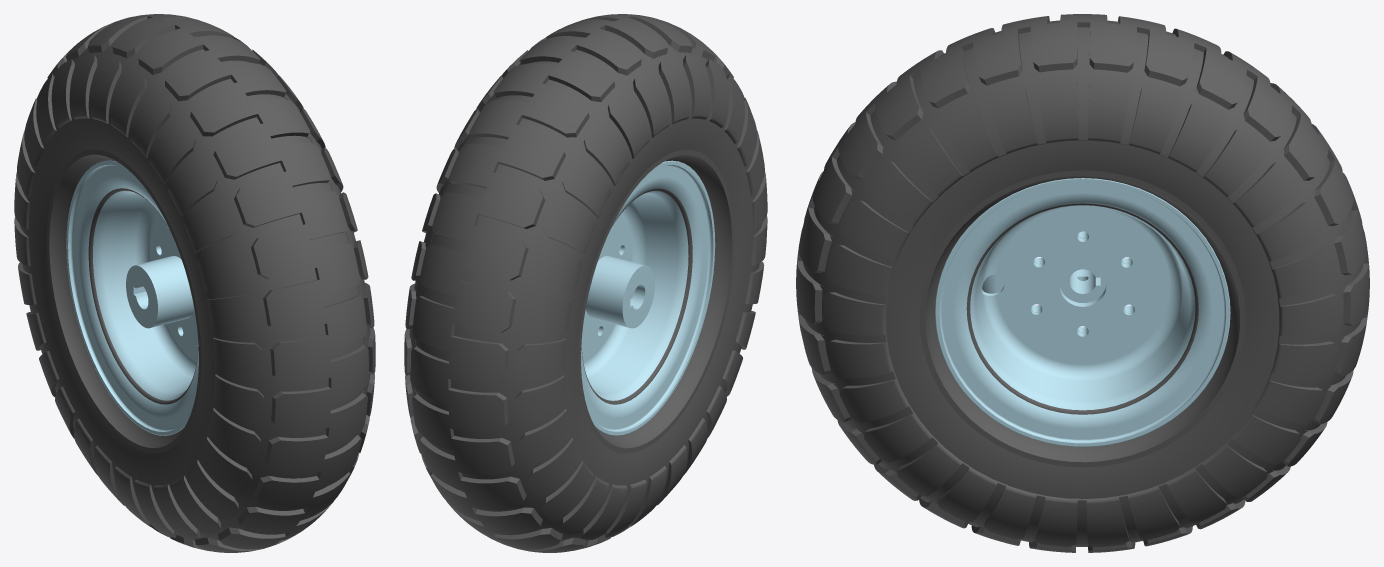
File: ackermann_front_left_wheel.glb
3 renders of one model, left to right at view 1: azimuth 30°, elevation 25°; view 2: azimuth 150°, elevation 25°; view 3: azimuth 270°, elevation 25°, orthographic. The views are drawn at different scales.
Parts seen in each view (by area): view 1: 10´胖̥£¨³凸Ö£©_1, 12·¨<_1_2_1_1; view 2: 10´胖̥£¨³凸Ö£©_1, 12·¨<_1_2_1_1; view 3: 10´胖̥£¨³凸Ö£©_1, 12·¨<_1_2_1_1.
Part boxes in pixels (x1,y1,x2,y2): 10´胖̥£¨³凸Ö£©_1: (14, 14, 375, 552); 12·¨<_1_2_1_1: (66, 160, 198, 435); 10´胖̥£¨³凸Ö£©_1: (404, 14, 767, 552); 12·¨<_1_2_1_1: (581, 160, 715, 435); 10´胖̥£¨³凸Ö£©_1: (796, 14, 1369, 552); 12·¨<_1_2_1_1: (935, 178, 1230, 446).
Bounding box in the file's own units: 0.082 × 0.255 × 0.255.
